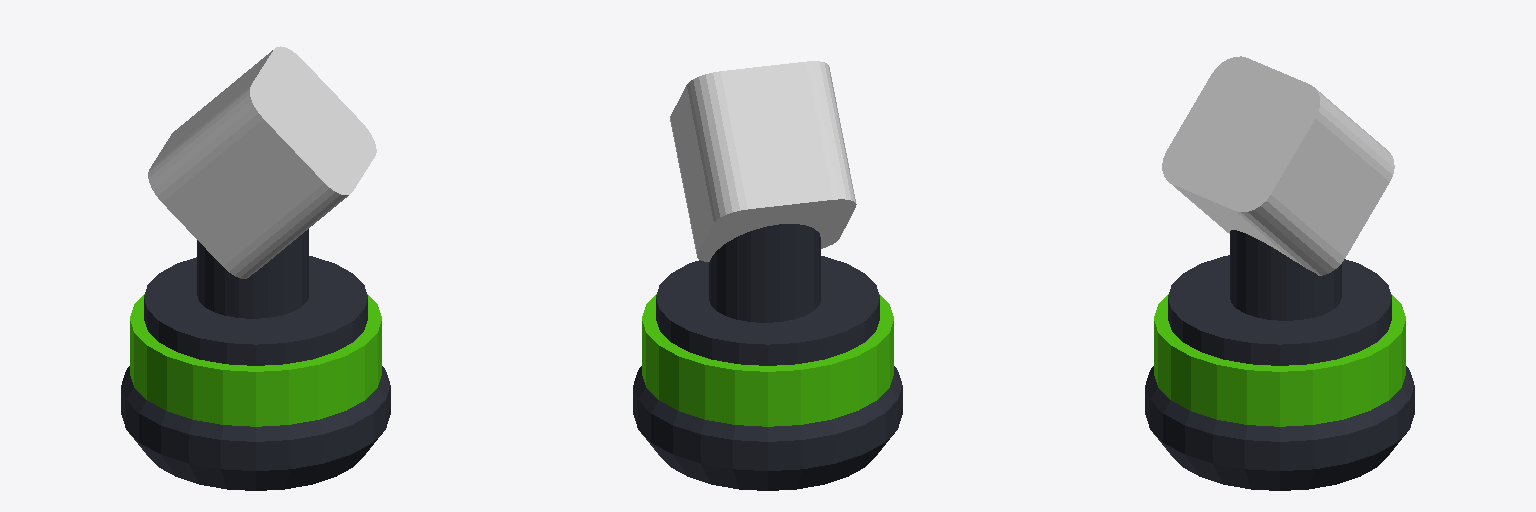
The model's file is tower_silver.obj.
3 renders of one model, left to right at view 1: azimuth 30°, elevation 25°; view 2: azimuth 150°, elevation 25°; view 3: azimuth 270°, elevation 25°, orthographic.
Parts seen in each view (by area): view 1: mergedBlocks; view 2: mergedBlocks; view 3: mergedBlocks.
Boxes of the visible parts, box(x1,y1,x2,y2) form: mergedBlocks: box(121, 46, 390, 490); mergedBlocks: box(633, 61, 902, 490); mergedBlocks: box(1145, 56, 1414, 490).
Bounding box in the file's own units: 0.96 × 1.48 × 0.96.